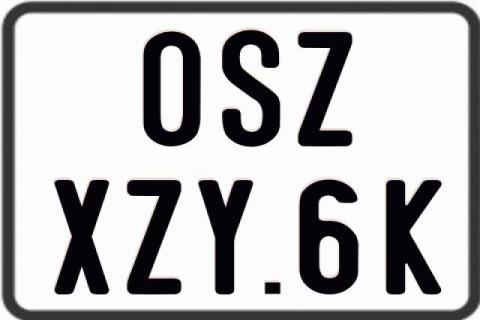0: (140, 30, 199, 146), (298, 177, 357, 293)
K: (386, 180, 447, 298)
S: (219, 30, 277, 152)
X: (51, 178, 107, 294)
Y: (198, 178, 258, 294)
Z: (297, 30, 357, 146), (124, 178, 180, 294)
